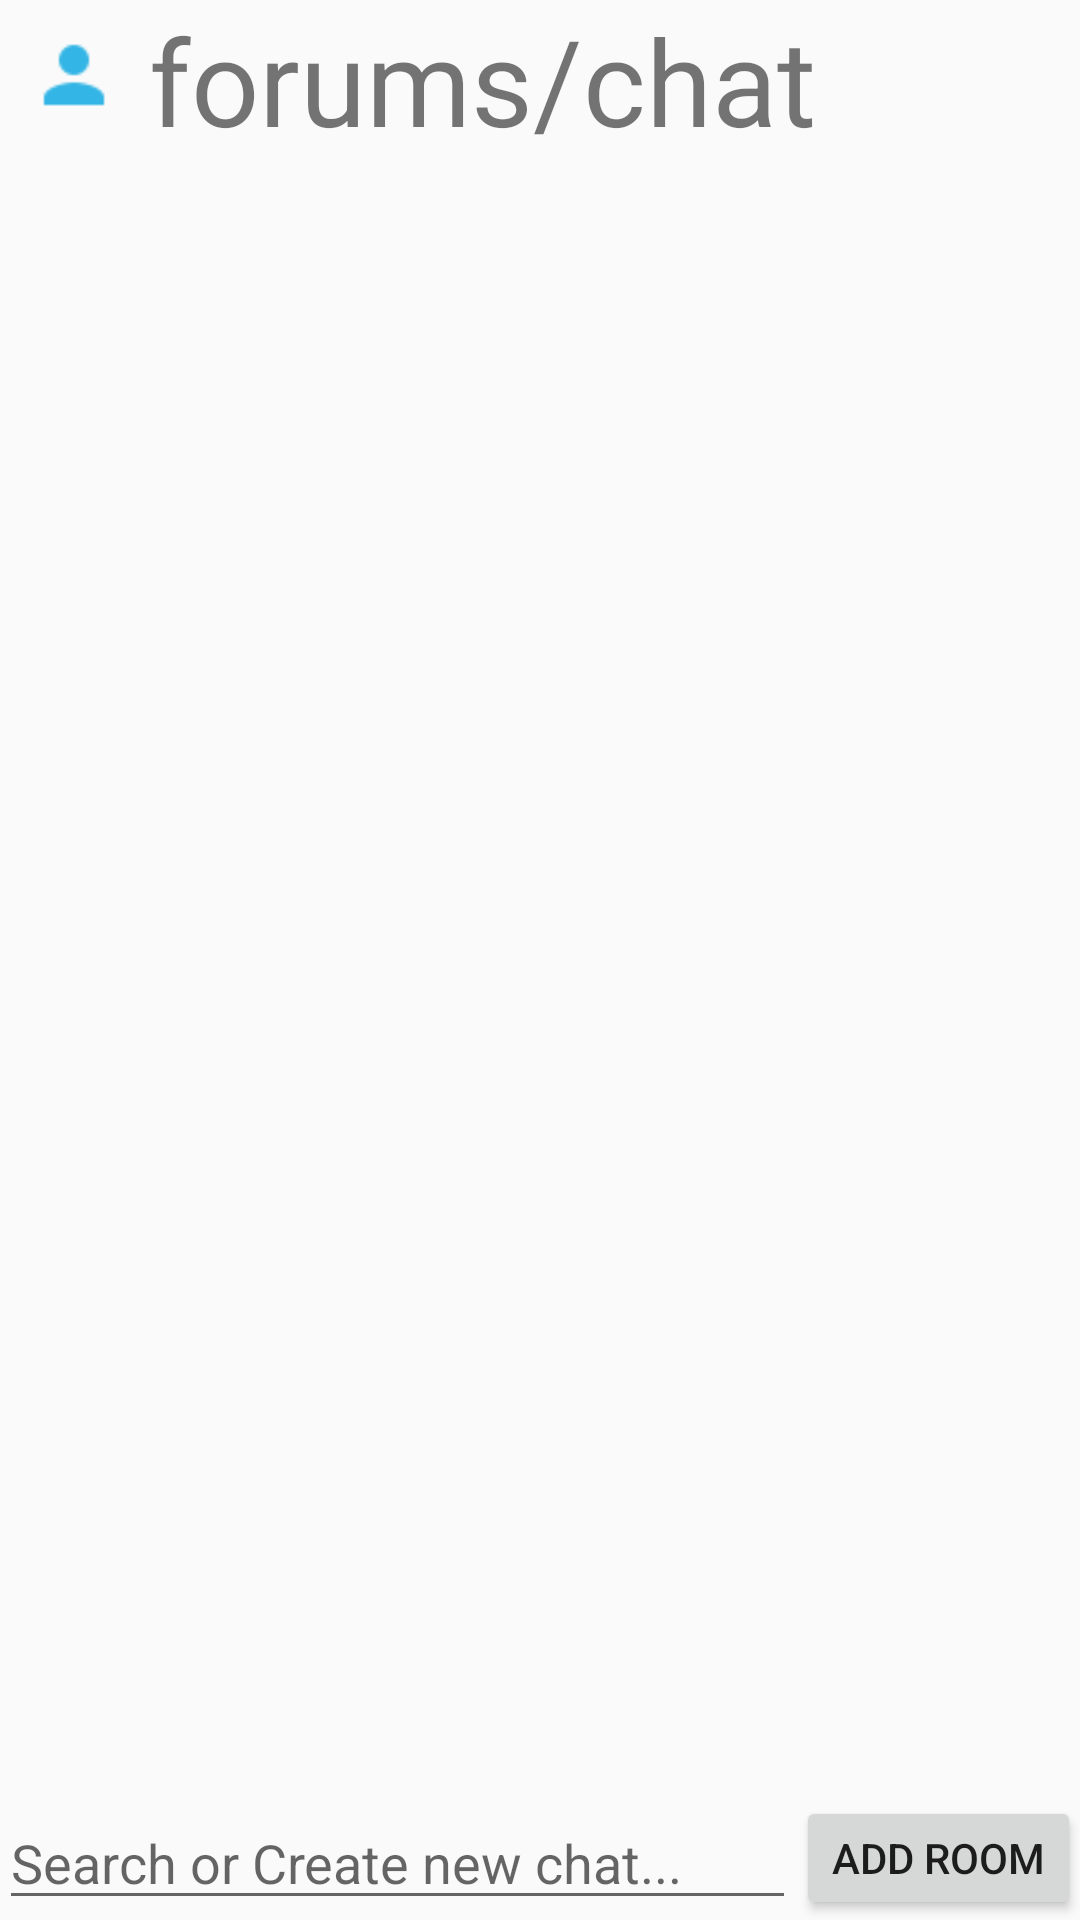

Named icons in this screenshot (1080*1920) and their centers, (x=x, y=y):
social person: (x=74, y=75)
